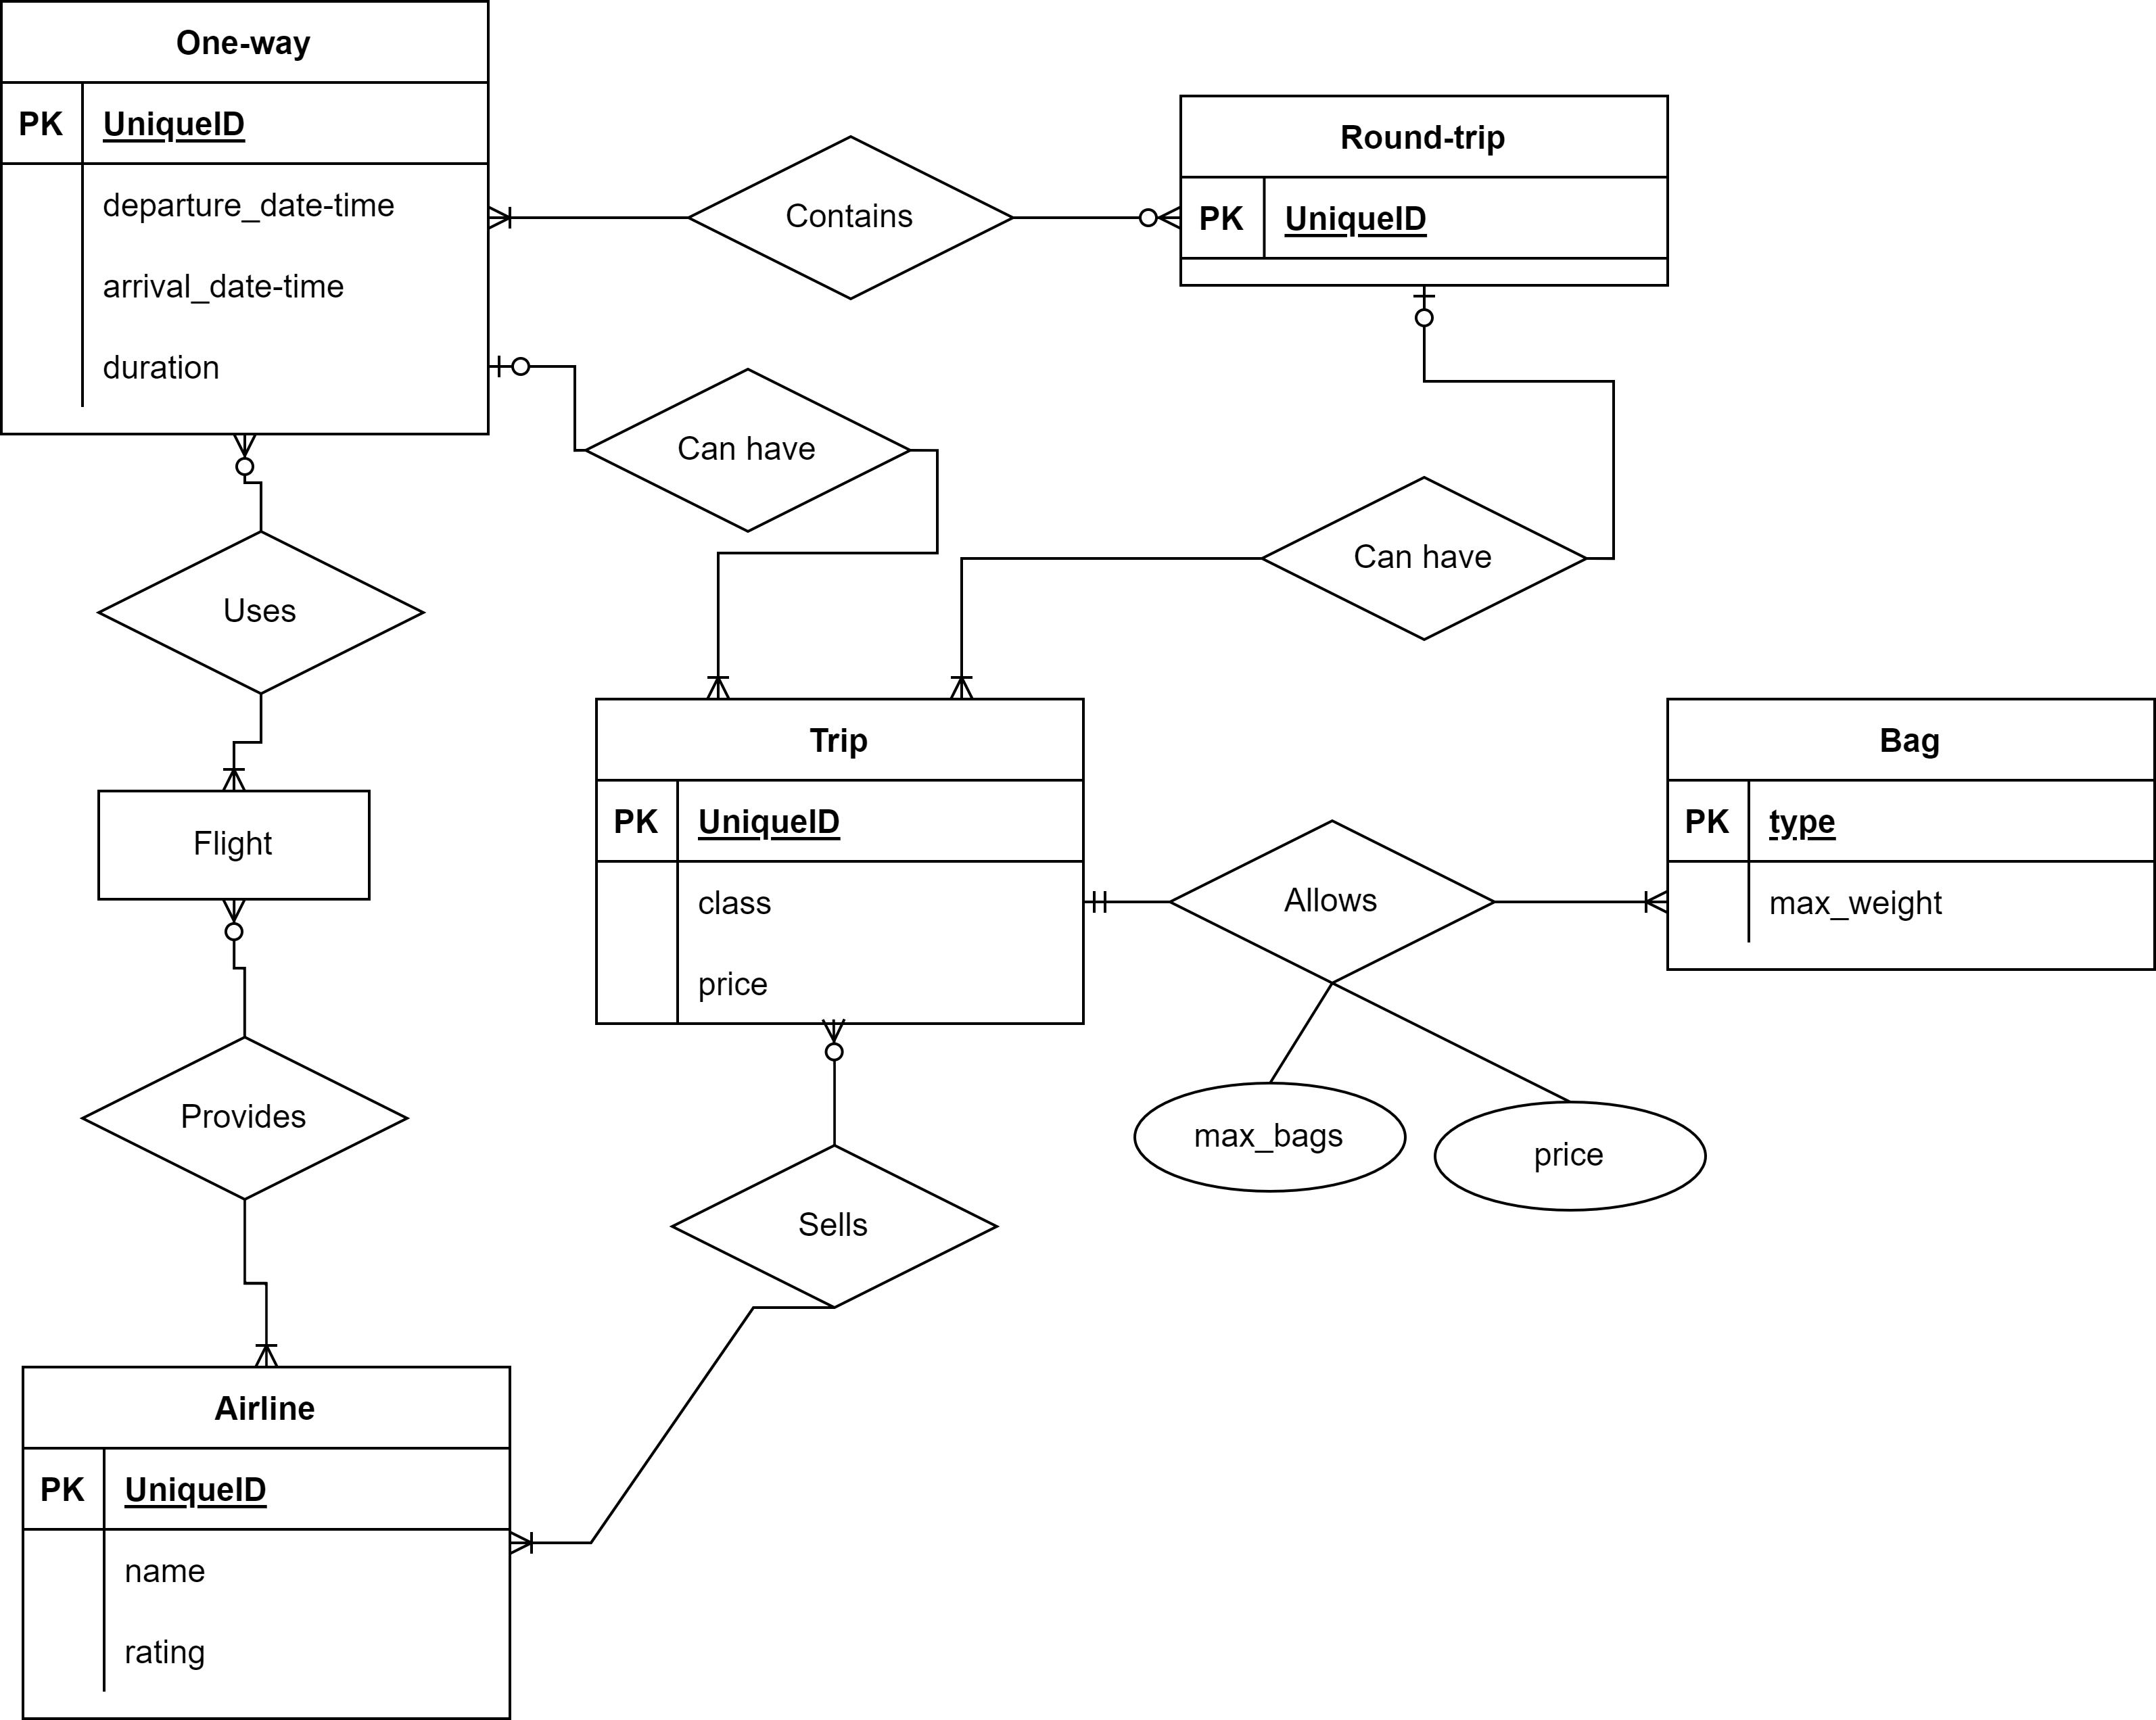attribute: (1134, 1085, 1408, 1195), (1434, 1102, 1708, 1211)
entity: (0, 0, 499, 444), (0, 1364, 516, 1720), (590, 697, 1094, 1032), (1663, 697, 2156, 974), (1175, 90, 1673, 293), (81, 788, 379, 909)
relationship: (585, 360, 916, 534), (1169, 816, 1508, 983), (72, 1037, 409, 1204), (1271, 474, 1592, 644), (100, 534, 427, 699), (671, 1150, 1004, 1304), (694, 144, 1011, 298)
